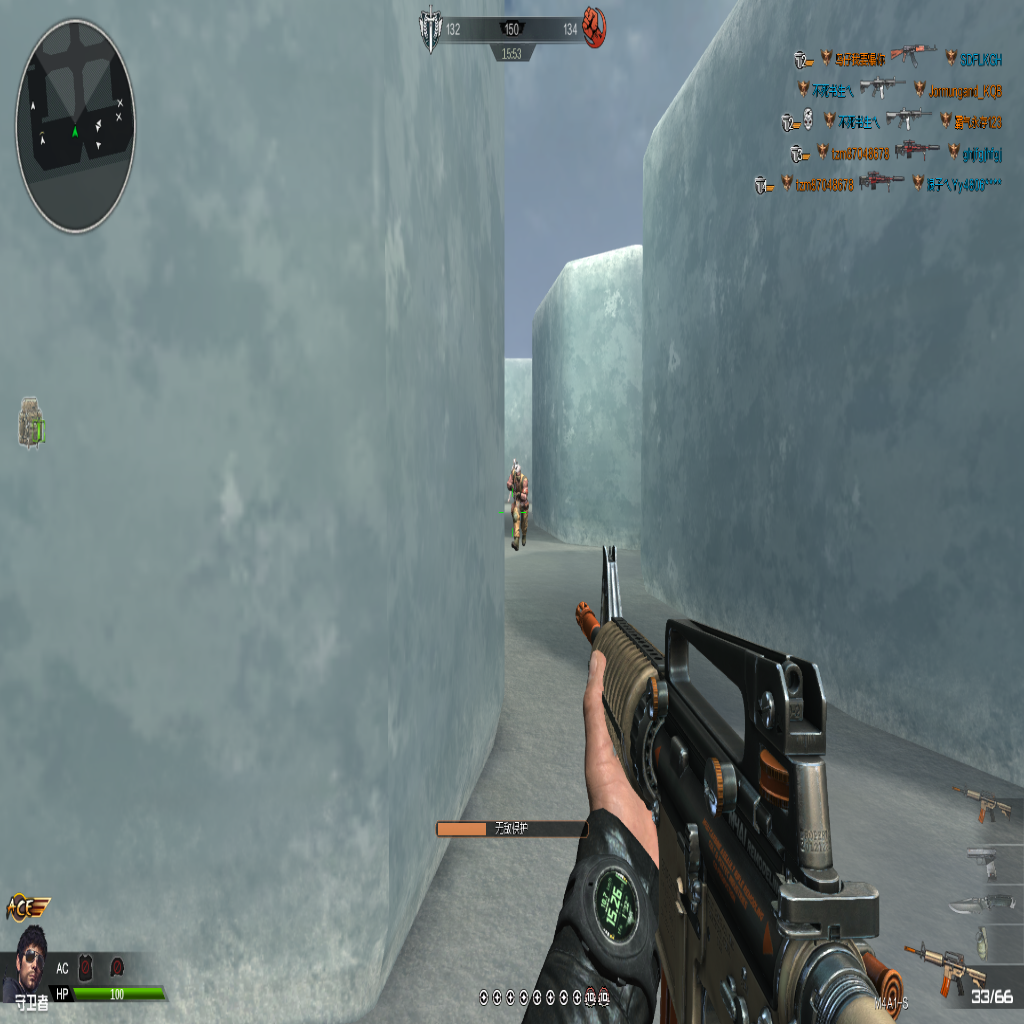tt: (509, 464, 527, 545)
